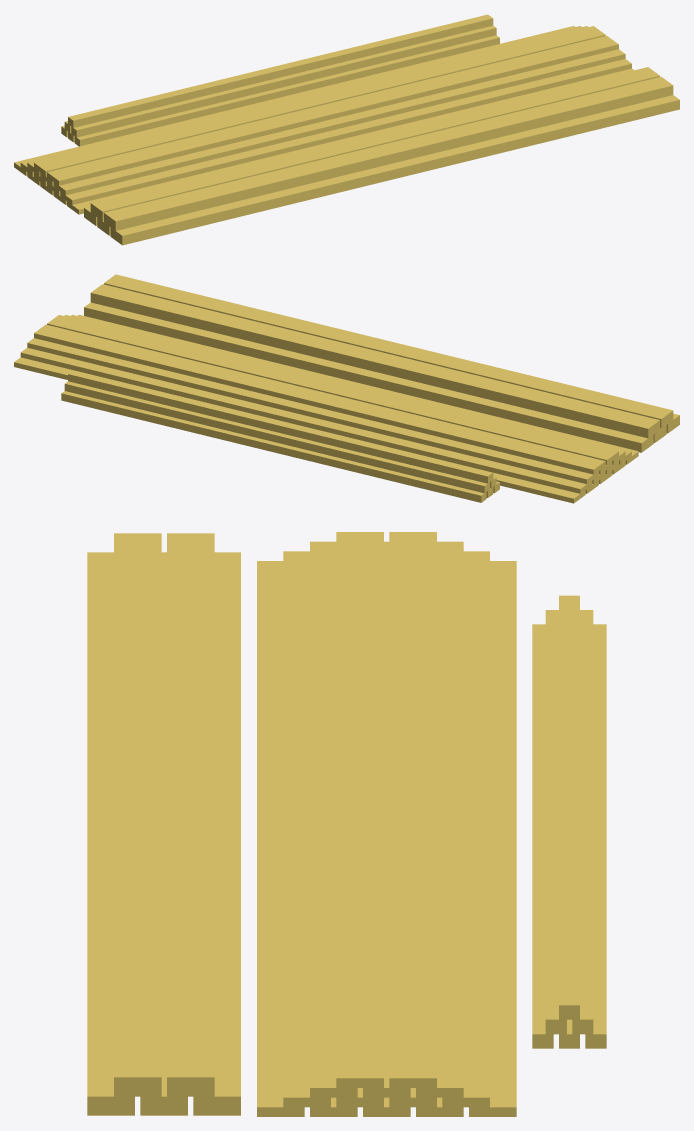
The model's file is bed5.1.glb.
3 renders of one model, top to bottom at view 1: azimuth 30°, elevation 25°; view 2: azimuth 150°, elevation 25°; view 3: azimuth 270°, elevation 25°, orthographic. The views are drawn at different scales.
Parts seen in each view (by area): view 1: girder1.2, beam2.4, girder1.1, girder1.3, beam1.7, beam1.3, beam1.2, guide1.3, guide2.2, guide2.1, beam1.1, beam1.4 (+2 smaller); view 2: girder1.3, beam1.7, girder1.005, girder1.2, beam2.4, beam1.4, beam1.6, guide1.3, guide2.3, guide1.2, beam2.5, beam1.1 (+2 smaller); view 3: girder1.2, girder1.3, beam1.7, beam2.4, girder1.005, girder1.1, beam1.2, beam1.4, beam1.6, beam1.3, beam1.1, beam2.5 (+7 smaller).
Part boxes in pixels (<box>): girder1.2: <box>104,76,673,230</box>; beam2.4: <box>47,35,618,185</box>; girder1.1: <box>110,95,679,245</box>; girder1.3: <box>90,67,659,221</box>; beam1.7: <box>34,26,605,175</box>; beam1.3: <box>53,49,625,195</box>; beam1.2: <box>60,59,631,204</box>; guide1.3: <box>68,14,493,127</box>; guide2.2: <box>71,25,496,137</box>; guide2.1: <box>74,35,499,146</box>; beam1.1: <box>67,68,633,214</box>; beam1.4: <box>20,26,581,175</box>; girder1.3: <box>90,284,659,438</box>; beam1.7: <box>34,324,605,474</box>; girder1.005: <box>84,302,653,452</box>; girder1.2: <box>104,274,673,428</box>; beam2.4: <box>47,315,618,464</box>; beam1.4: <box>20,347,592,493</box>; beam1.6: <box>27,338,598,484</box>; guide1.3: <box>68,370,493,483</box>; guide2.3: <box>61,391,486,502</box>; guide1.2: <box>64,381,489,493</box>; beam2.5: <box>14,357,585,503</box>; beam1.1: <box>77,315,638,464</box>; girder1.2: <box>114,533,161,1096</box>; girder1.3: <box>167,533,214,1096</box>; beam1.7: <box>389,532,436,1087</box>; beam2.4: <box>336,532,383,1087</box>; girder1.005: <box>193,552,240,1115</box>; girder1.1: <box>87,552,134,1115</box>; beam1.2: <box>283,551,330,1107</box>; beam1.4: <box>442,551,489,1107</box>; beam1.6: <box>416,541,463,1097</box>; beam1.3: <box>310,541,357,1097</box>; beam1.1: <box>257,561,304,1116</box>; beam2.5: <box>469,561,516,1116</box>.
Size of the model in its own units: 2.44 by 0.09 by 0.98.
